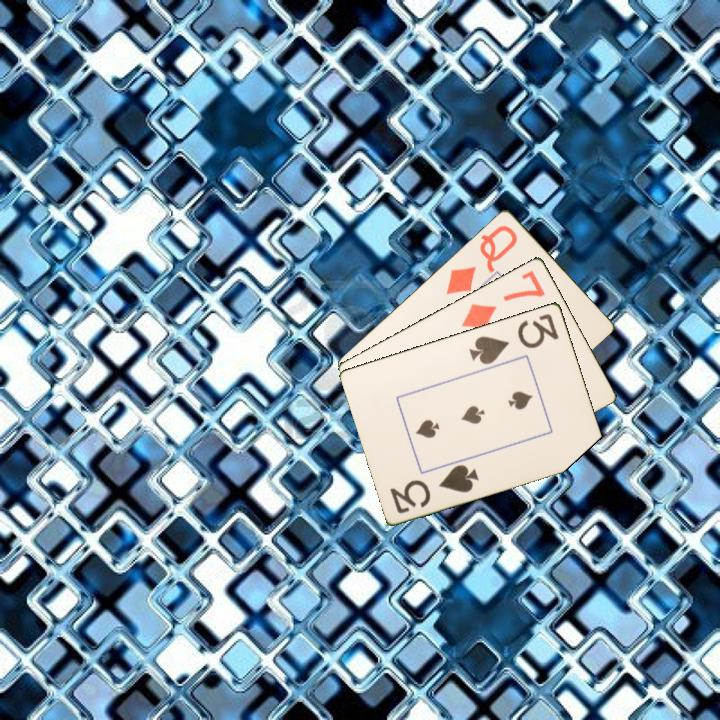3s: (466, 310, 562, 367), (386, 460, 482, 516)
7d: (458, 266, 548, 332)
Qd: (443, 221, 520, 297)
